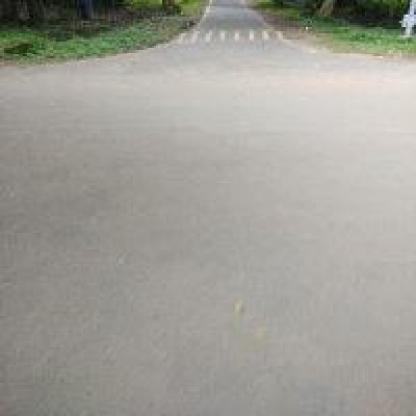Speed Bump: (173, 25, 285, 44)
